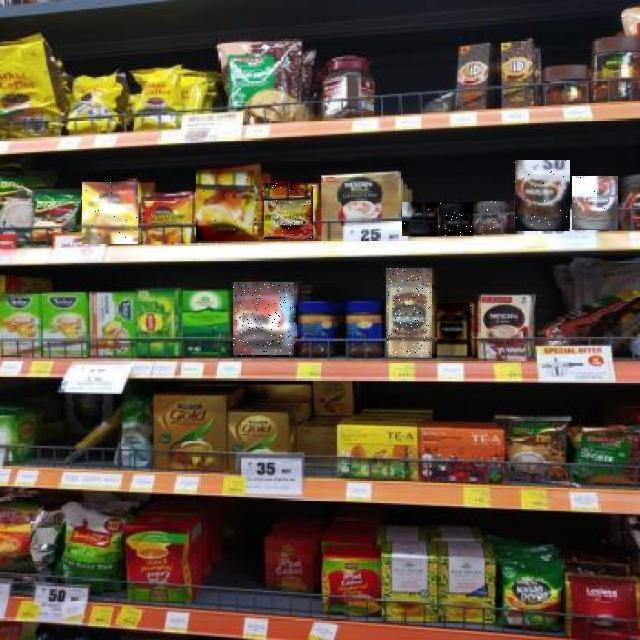Coffee: (234, 282, 296, 355), (386, 268, 432, 358), (197, 170, 255, 241), (515, 160, 570, 231), (82, 182, 138, 244), (264, 183, 313, 239), (573, 176, 619, 230), (438, 304, 474, 360), (440, 202, 476, 236), (402, 202, 438, 236), (478, 201, 514, 233)
